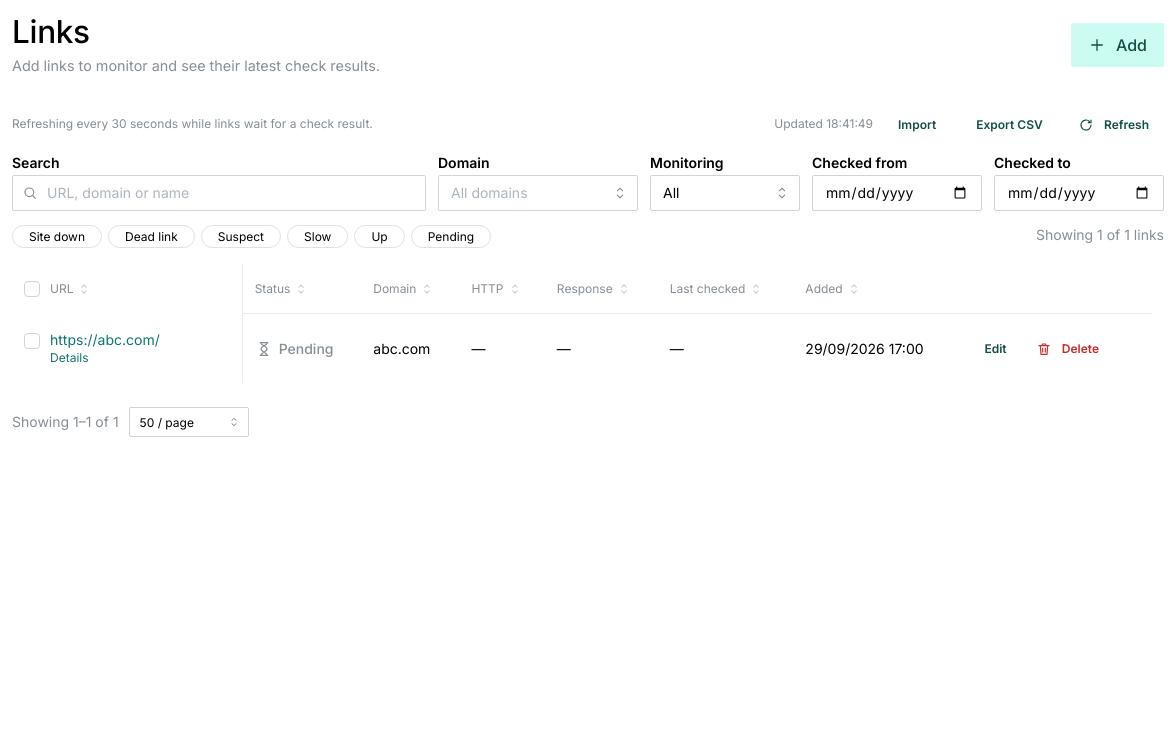
LinksPage › FR-02: duplicate URL (409) → says the link already exists
Click the button "Add": (1118, 45) 1071,23 -> 1164,67
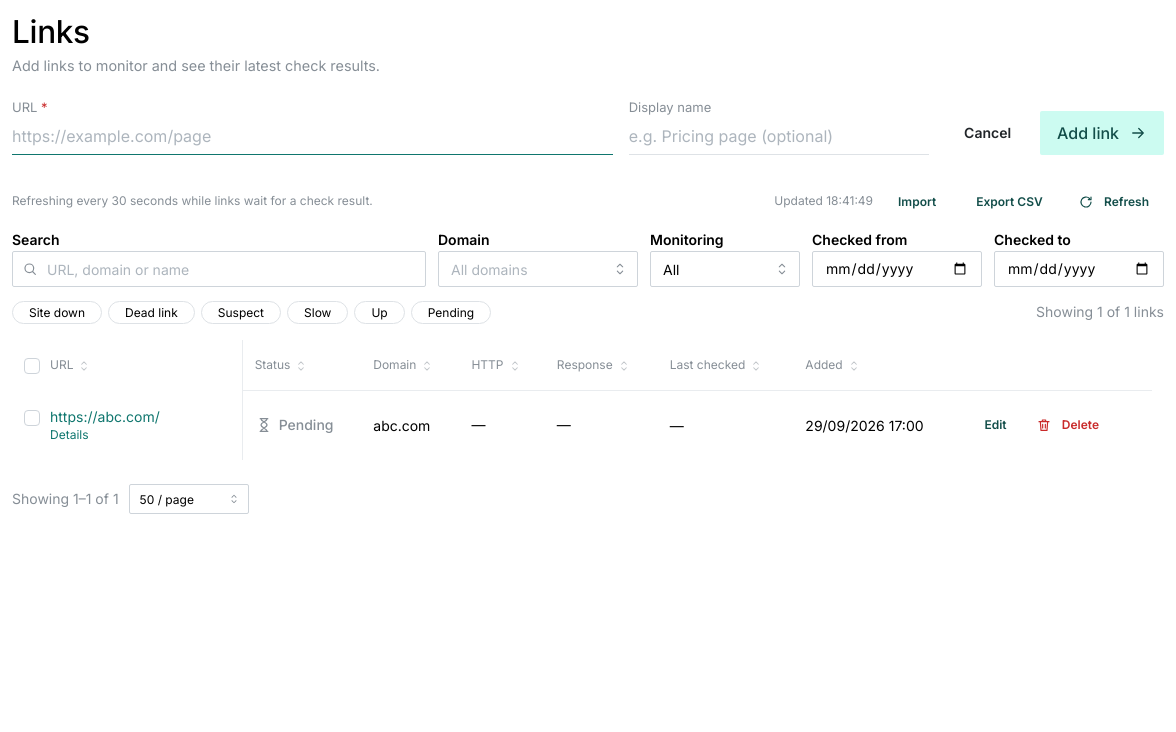
In the field labelled "URL *": (312, 136) 12,118 -> 613,154, type "https://abc.com"
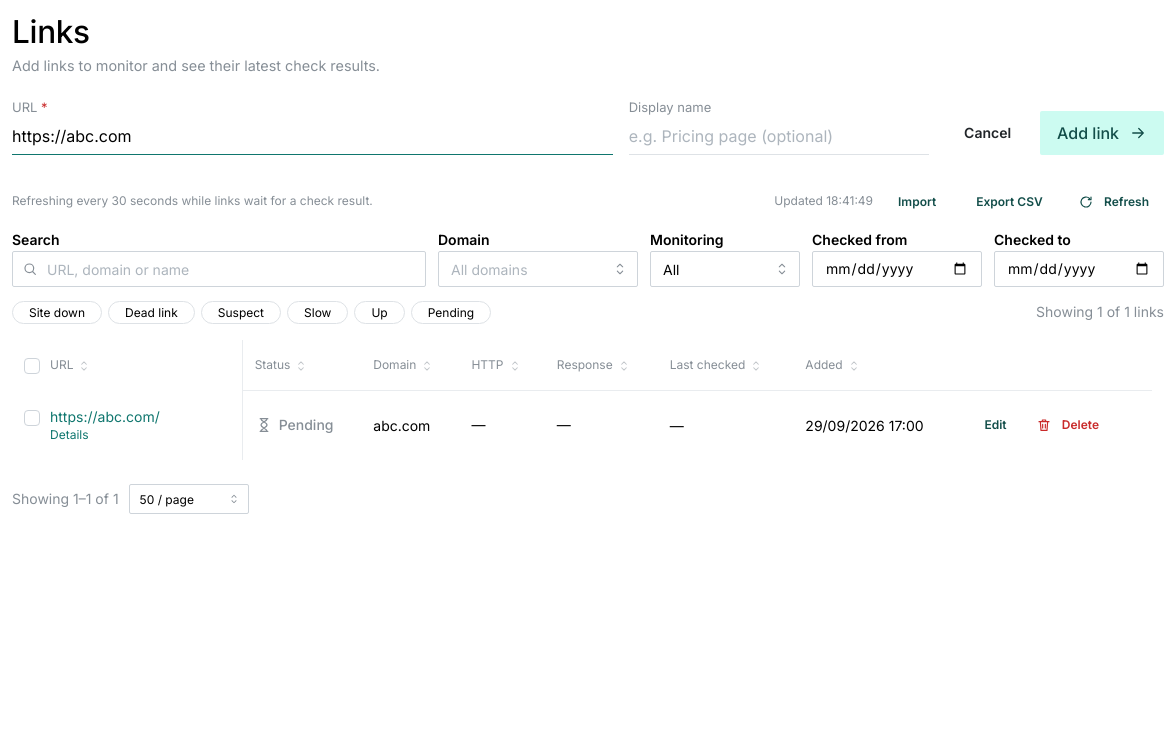
Click the button "Add link": (1102, 132) 1040,110 -> 1164,154
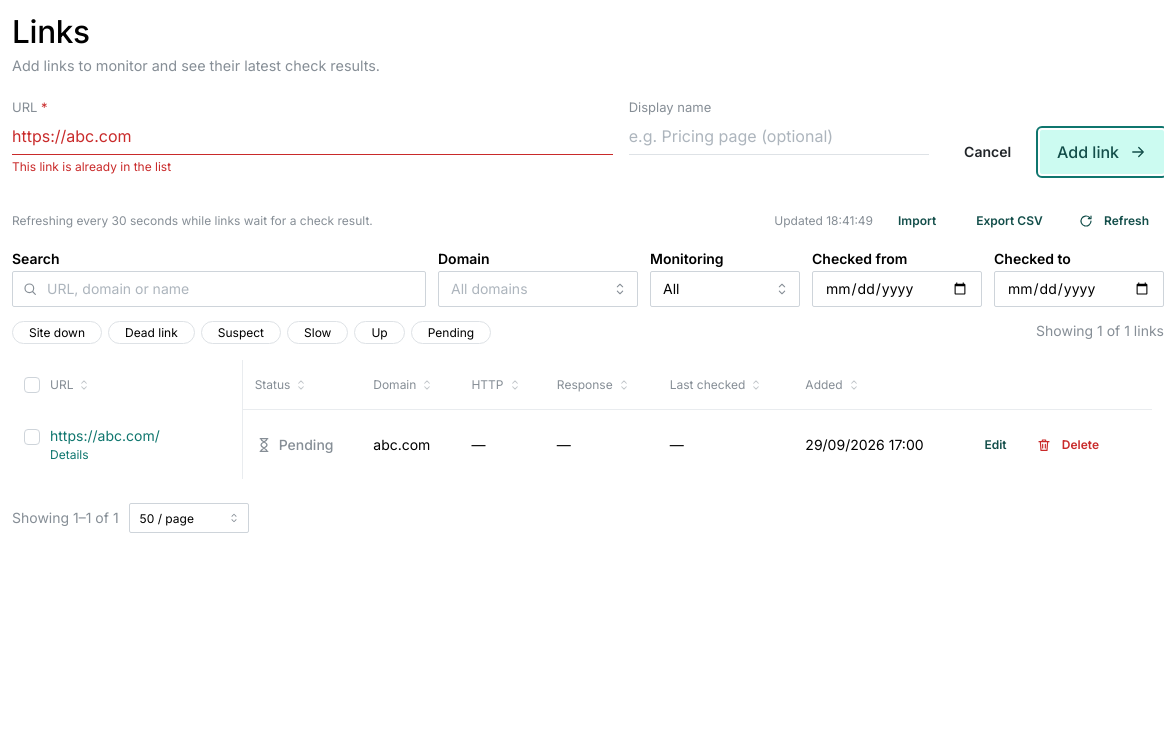
Expected: the text "This link is already in the list" is shown, 12,158 -> 171,174
